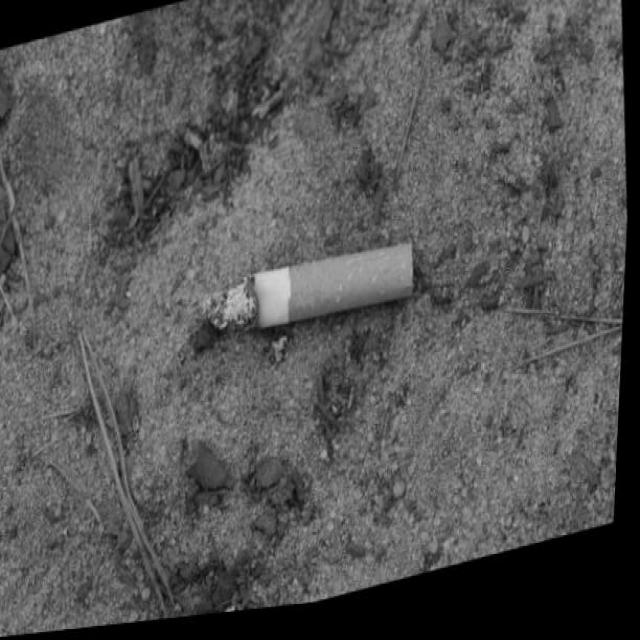cigarette: (236, 235, 423, 355)
